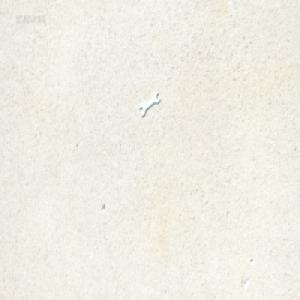Wrench: (138, 94, 160, 119)
